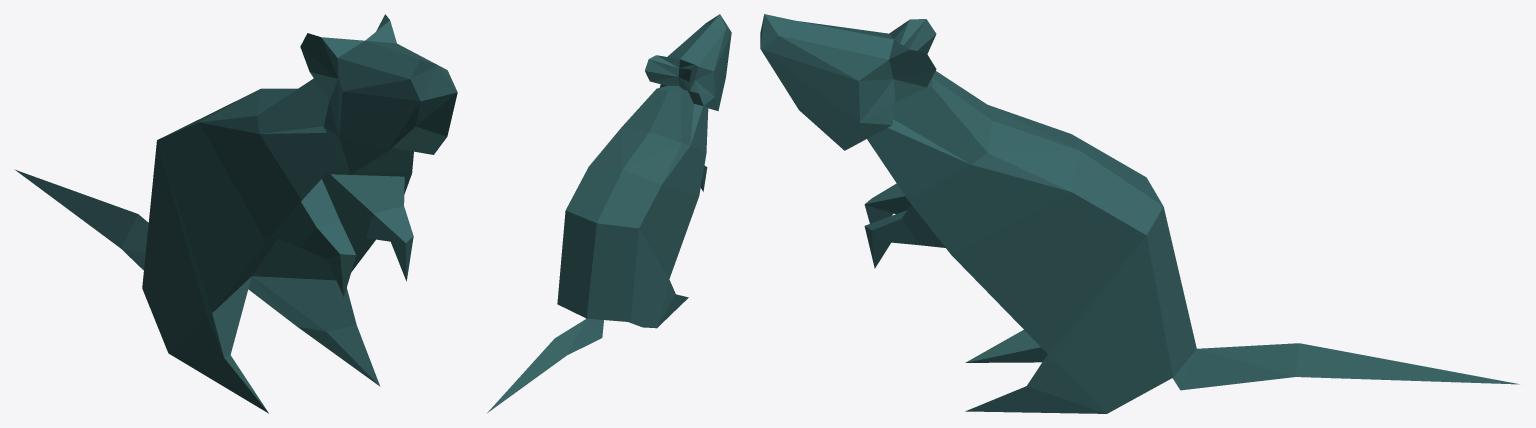
The model's file is rat.glb.
3 views of the same model, side by side, from view 1: azimuth 30°, elevation 25°; view 2: azimuth 150°, elevation 25°; view 3: azimuth 270°, elevation 25° (orthographic). The views are drawn at different scales.
Visible parts, largest first — view 1: Rat; view 2: Rat; view 3: Rat.
Boxes of the visible parts, bbox=[...] form: Rat: bbox=[14, 14, 457, 413]; Rat: bbox=[487, 14, 731, 412]; Rat: bbox=[760, 14, 1519, 413].
Size of the model in its own units: 0.5785 by 1.5 by 2.76.
